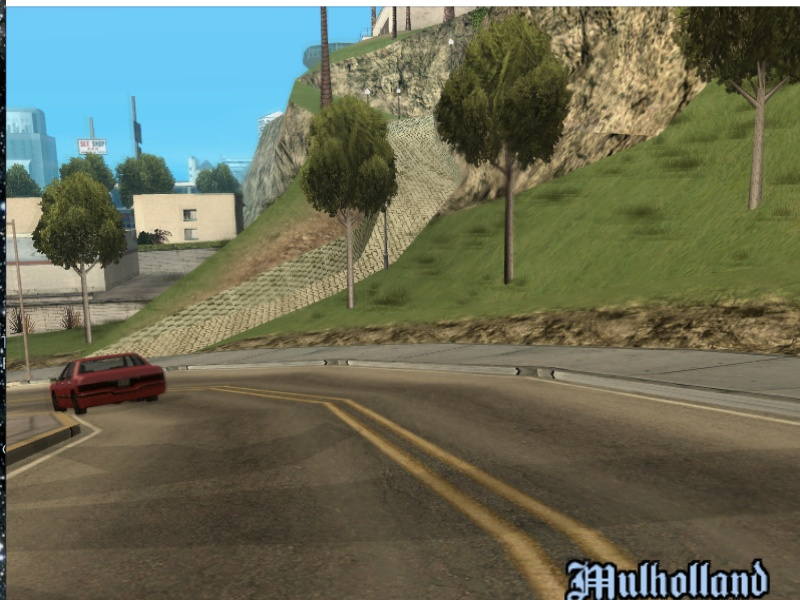pole: (11, 229, 37, 383)
tree: (749, 78, 767, 218), (504, 162, 519, 286), (343, 209, 359, 312), (78, 271, 95, 351)
vehicle: (50, 350, 164, 414)
